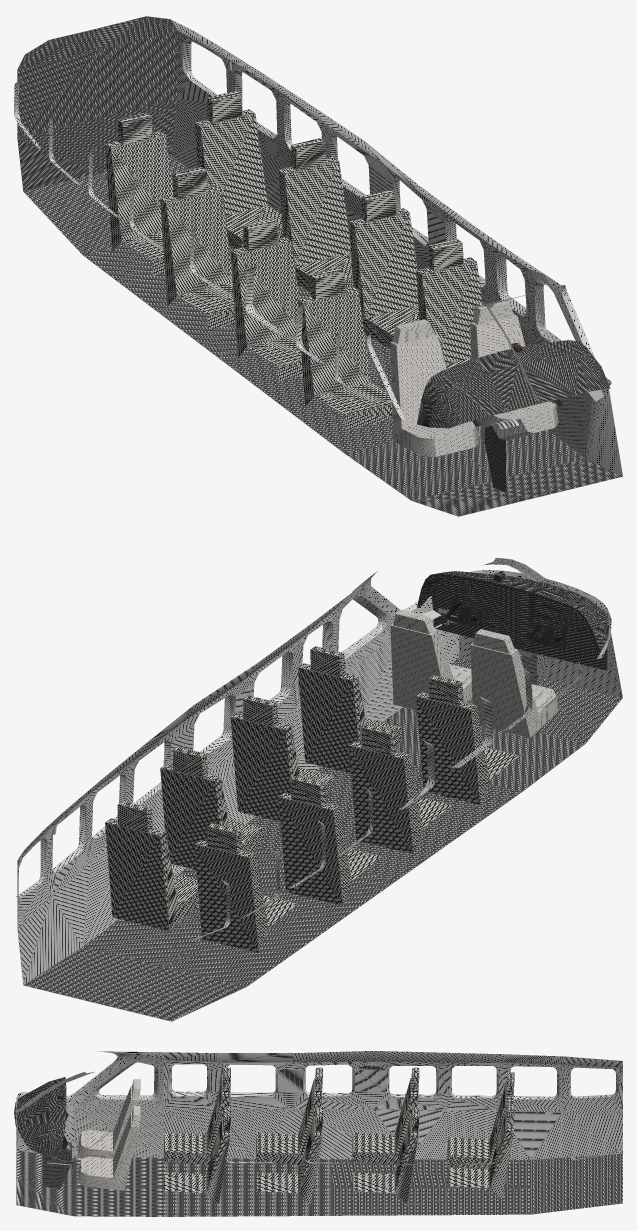
Rendered from 208B_GRAND_CARAVAN_EX_INTERIOR_LOD04.gltf.
3 renders of one model, top to bottom at view 1: azimuth 30°, elevation 25°; view 2: azimuth 150°, elevation 25°; view 3: azimuth 270°, elevation 25°, orthographic. The views are drawn at different scales.
Parts seen in each view (by area): view 1: CABIN_SEATS, FLOOR_BACK, BACK, MAIN_PANEL, SEAT_FRONT, TOP_FRONT, DOORS, PEDESTAL_PEDALS; view 2: CABIN_SEATS, FLOOR_BACK, BACK, MAIN_PANEL, SEAT_FRONT, DOORS, TOP_FRONT; view 3: BACK, FLOOR_BACK, CABIN_SEATS, DOORS, SEAT_FRONT, MAIN_PANEL, TOP_FRONT, PEDESTAL_PEDALS.
Boxes of the visible parts, <box> form: CABIN_SEATS: <box>105,90,482,430</box>; FLOOR_BACK: <box>17,16,622,516</box>; BACK: <box>14,19,531,364</box>; MAIN_PANEL: <box>417,340,610,428</box>; SEAT_FRONT: <box>390,300,558,456</box>; TOP_FRONT: <box>367,254,622,476</box>; DOORS: <box>335,269,592,457</box>; PEDESTAL_PEDALS: <box>484,419,533,492</box>; CABIN_SEATS: <box>105,646,519,952</box>; FLOOR_BACK: <box>23,658,622,1021</box>; BACK: <box>16,593,532,984</box>; MAIN_PANEL: <box>417,571,608,670</box>; SEAT_FRONT: <box>390,609,558,737</box>; DOORS: <box>335,558,582,721</box>; TOP_FRONT: <box>355,562,622,697</box>; BACK: <box>163,1051,622,1164</box>; FLOOR_BACK: <box>16,1150,622,1216</box>; CABIN_SEATS: <box>164,1067,514,1204</box>; DOORS: <box>15,1055,163,1158</box>; SEAT_FRONT: <box>78,1079,140,1190</box>; MAIN_PANEL: <box>14,1077,66,1174</box>; TOP_FRONT: <box>16,1051,163,1173</box>; PEDESTAL_PEDALS: <box>43,1141,71,1189</box>.
Bounding box in the file's own units: 1.77 × 1.4 × 6.42.
